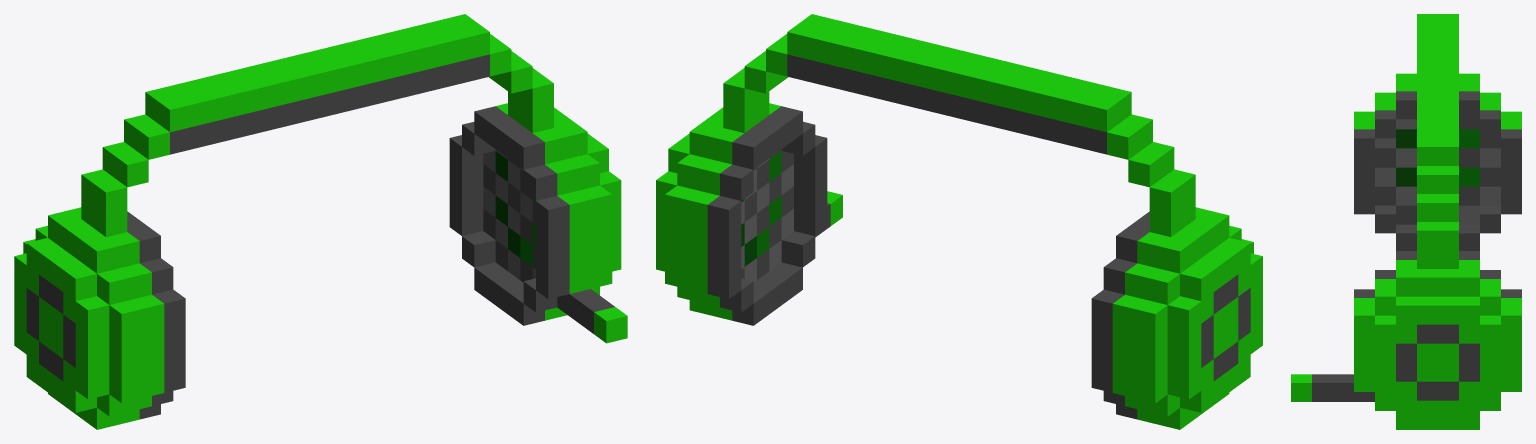
Rendered from accessories_head_razerkraken.glb.
3 views of the same model, side by side, from view 1: azimuth 30°, elevation 25°; view 2: azimuth 150°, elevation 25°; view 3: azimuth 270°, elevation 25° (orthographic). The views are drawn at different scales.
Visible parts, largest first — view 1: model_0; view 2: model_0; view 3: model_0.
Part boxes in pixels (x1=…): model_0: x1=14, y1=14, x2=627, y2=429; model_0: x1=656, y1=14, x2=1262, y2=429; model_0: x1=1291, y1=14, x2=1521, y2=429.
Size of the model in its own units: 25 by 13 by 11.
